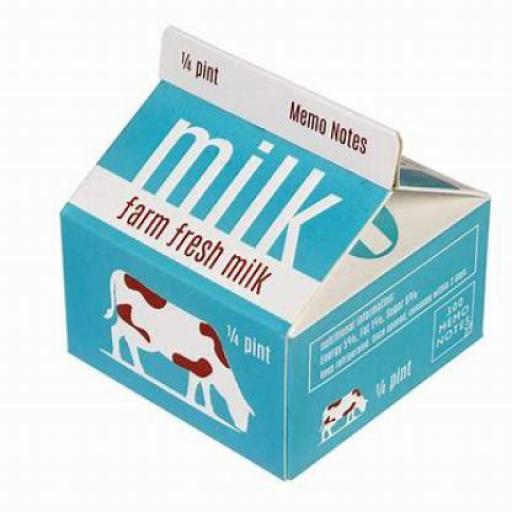drink carton: (59, 25, 492, 484)
